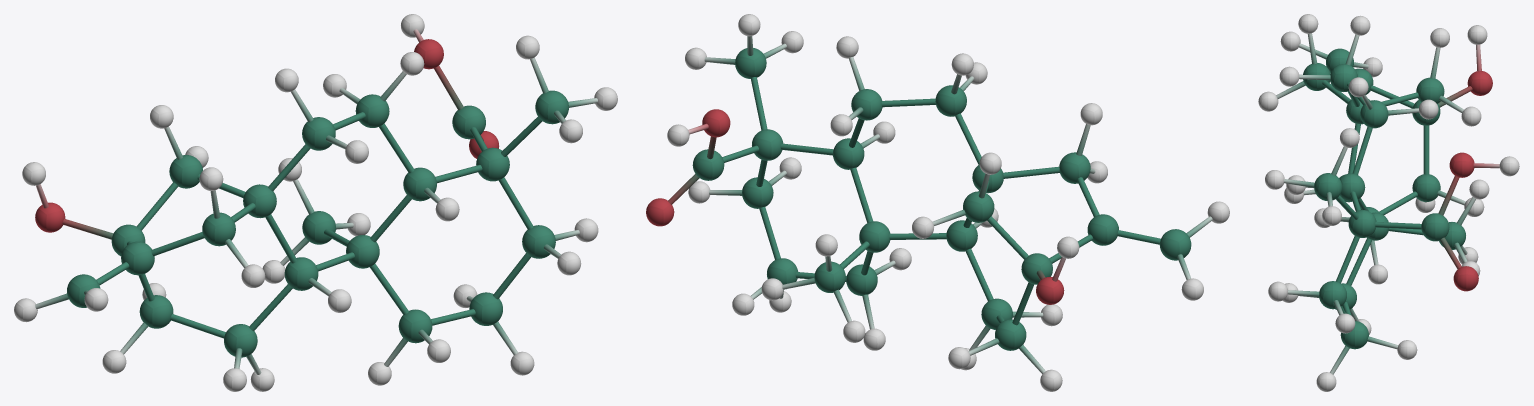
File: Steviol.fbx
3 renders of one model, left to right at view 1: azimuth 30°, elevation 25°; view 2: azimuth 150°, elevation 25°; view 3: azimuth 270°, elevation 25°, orthographic. The views are drawn at different scales.
Visible parts, largest first — view 1: curMeshHyperballExportedMesh; view 2: curMeshHyperballExportedMesh; view 3: curMeshHyperballExportedMesh.
Part boxes in pixels (x1=…): curMeshHyperballExportedMesh: x1=14, y1=14, x2=617, y2=391; curMeshHyperballExportedMesh: x1=646, y1=14, x2=1229, y2=391; curMeshHyperballExportedMesh: x1=1258, y1=14, x2=1519, y2=391.
Size of the model in its own units: 11.14 by 6.33 by 5.23.
